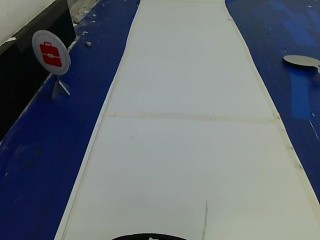company: (29, 28, 70, 74)
